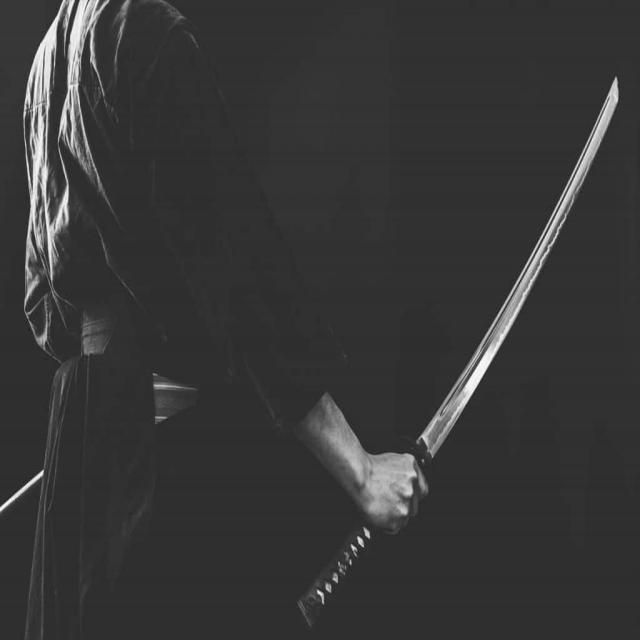katana: (297, 76, 624, 629)
